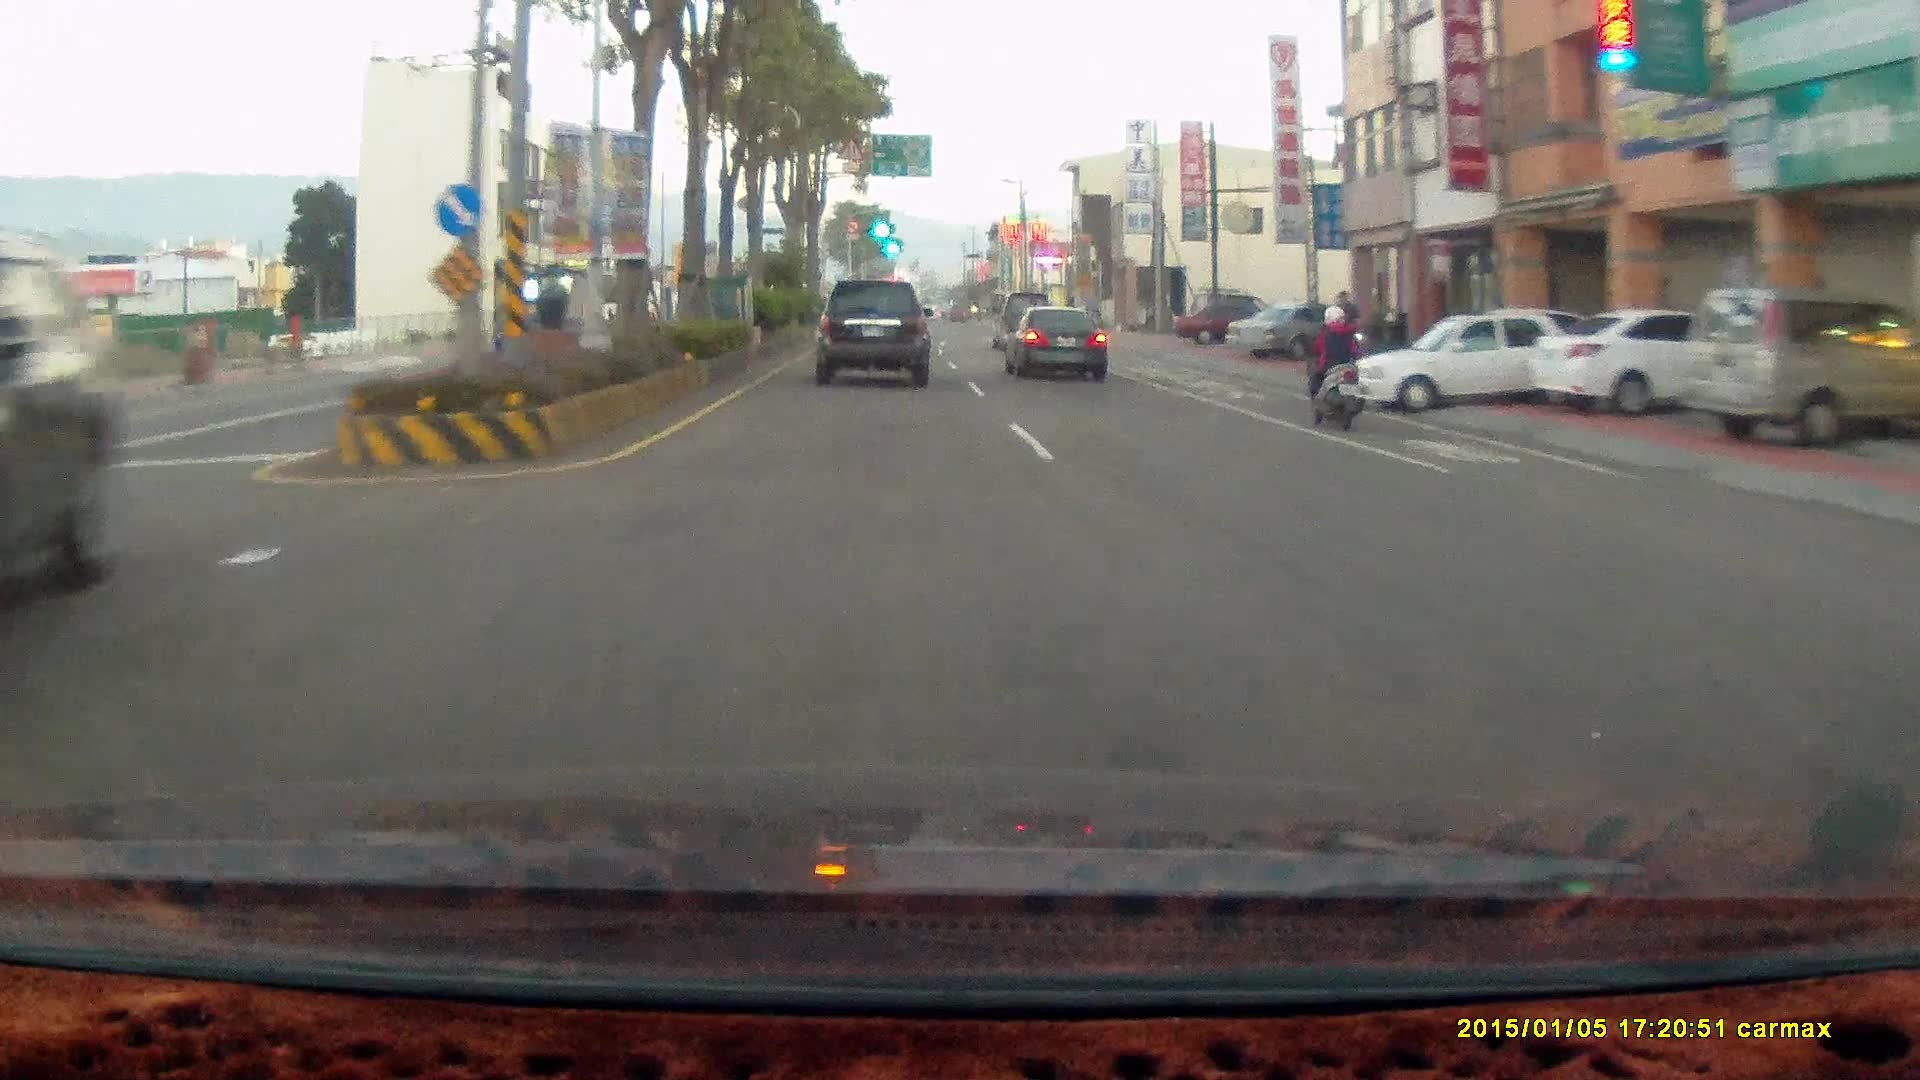rider: (1291, 289, 1381, 441), (1300, 302, 1365, 431)
vehicle: (1, 229, 136, 614), (1, 228, 135, 613), (1682, 287, 1920, 453), (1349, 307, 1618, 410), (1526, 306, 1774, 417), (1349, 309, 1586, 414), (1525, 308, 1737, 420), (810, 279, 938, 387), (811, 278, 933, 386), (1227, 298, 1365, 359), (1226, 303, 1364, 362), (1007, 309, 1113, 385), (1003, 303, 1107, 380), (1175, 302, 1291, 346), (990, 290, 1054, 348)
